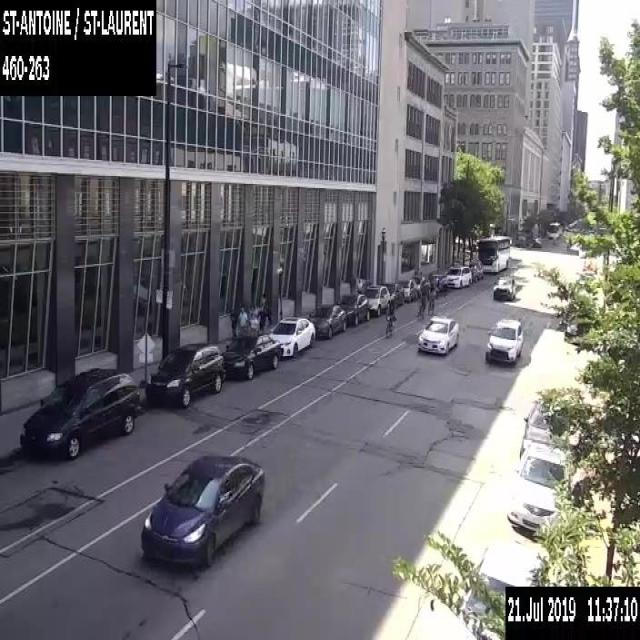bus: (478, 235, 510, 273), (547, 222, 559, 238)
construction: (134, 329, 156, 375), (581, 258, 597, 274)
cyclist: (385, 301, 396, 337), (416, 284, 426, 318), (427, 282, 436, 316)
pedestrian: (229, 303, 238, 337), (238, 304, 247, 331), (258, 303, 266, 329), (248, 312, 258, 329), (248, 303, 257, 318), (355, 277, 363, 293), (363, 275, 371, 289), (566, 243, 569, 252)
vehicle: (139, 452, 265, 568), (19, 365, 146, 460), (448, 538, 544, 639), (506, 441, 571, 534), (145, 341, 224, 405), (518, 398, 569, 458), (220, 330, 280, 380), (268, 315, 315, 357), (485, 317, 523, 364), (418, 315, 458, 354), (306, 304, 347, 338), (338, 293, 369, 325), (364, 283, 390, 315), (381, 282, 404, 308), (492, 274, 515, 300), (445, 264, 471, 286), (410, 275, 430, 297), (427, 272, 447, 293), (398, 278, 417, 300), (467, 259, 483, 282), (564, 322, 578, 346), (531, 236, 541, 246)
